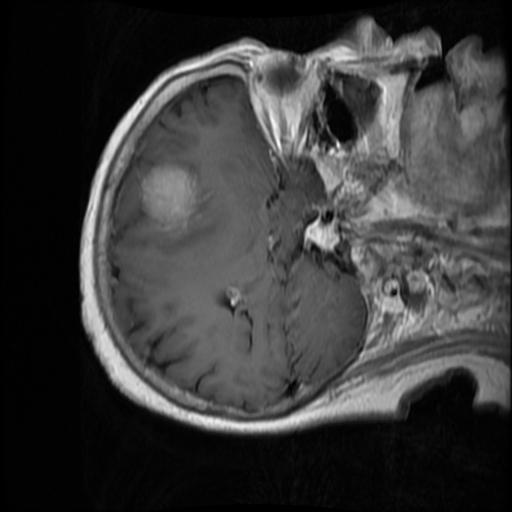meningioma: (138, 165, 199, 230)
